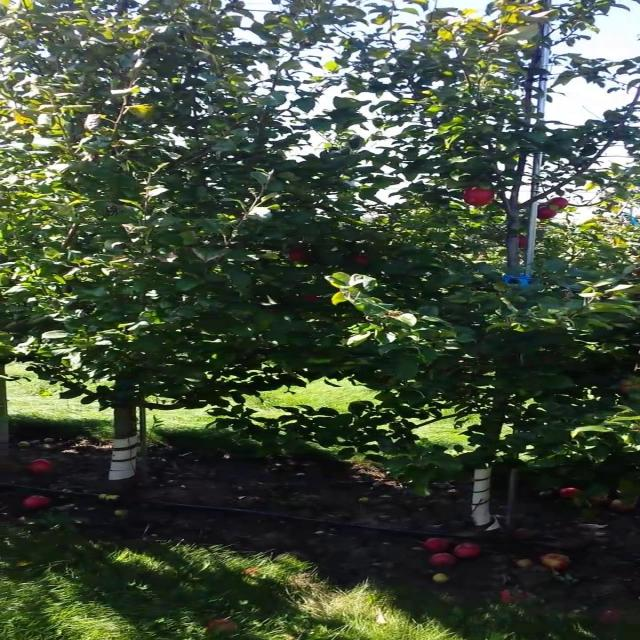apple: (461, 188, 498, 208), (291, 244, 308, 263), (618, 380, 638, 393), (547, 200, 569, 210), (540, 208, 558, 220), (291, 252, 306, 263), (518, 236, 528, 248), (355, 256, 370, 264), (305, 296, 320, 303)
